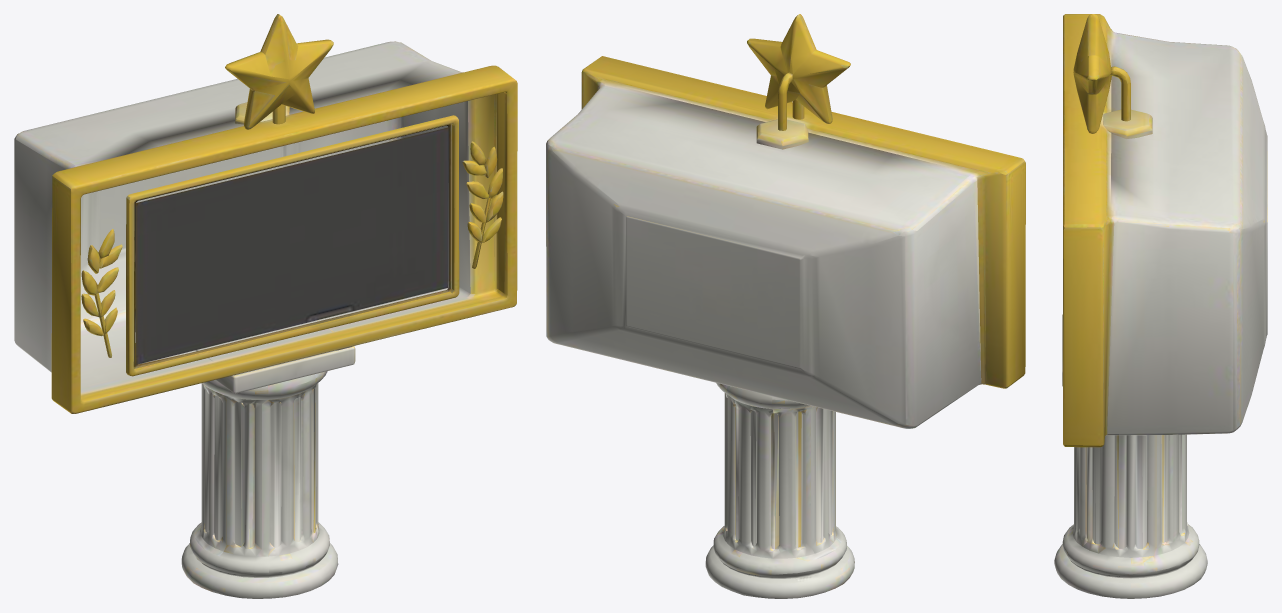
File: leyendas_pantalla.glb
The picture shows the model from 3 angles, left to right: view 1: azimuth 30°, elevation 25°; view 2: azimuth 150°, elevation 25°; view 3: azimuth 270°, elevation 25°; orthographic projection. The views are drawn at different scales.
Parts seen in each view (by area): view 1: tripo_node_6600b13c-e5e9-4a19-a95a-ddae2c497bbf; view 2: tripo_node_6600b13c-e5e9-4a19-a95a-ddae2c497bbf; view 3: tripo_node_6600b13c-e5e9-4a19-a95a-ddae2c497bbf.
Part boxes in pixels (x1,y1,x2,y2): tripo_node_6600b13c-e5e9-4a19-a95a-ddae2c497bbf: [14, 14, 517, 598]; tripo_node_6600b13c-e5e9-4a19-a95a-ddae2c497bbf: [546, 14, 1025, 598]; tripo_node_6600b13c-e5e9-4a19-a95a-ddae2c497bbf: [1054, 14, 1267, 598].
Bounding box in the file's own units: 0.825 × 0.9989 × 0.3491.
Materials: 1 (1 with a texture image).
